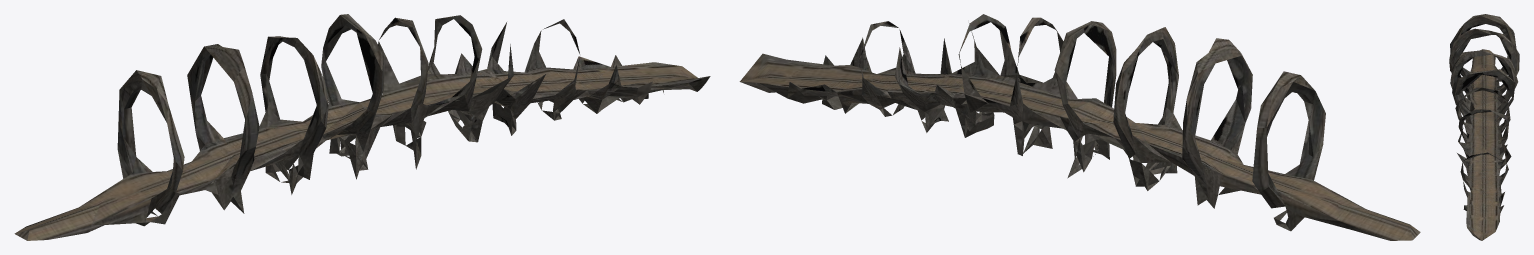
The model's file is stunt-hoop-tunnel.lod.glb.
3 views of the same model, side by side, from view 1: azimuth 30°, elevation 25°; view 2: azimuth 150°, elevation 25°; view 3: azimuth 270°, elevation 25° (orthographic). The views are drawn at different scales.
Visible parts, largest first — view 1: output_unwrapped; view 2: output_unwrapped; view 3: output_unwrapped.
Boxes of the visible parts, bbox=[...] form: output_unwrapped: bbox=[14, 14, 710, 240]; output_unwrapped: bbox=[739, 14, 1420, 240]; output_unwrapped: bbox=[1449, 14, 1519, 240].
Bounding box in the file's own units: 1.81 × 0.3998 × 0.2931.
Materials: 1 (1 with a texture image).
